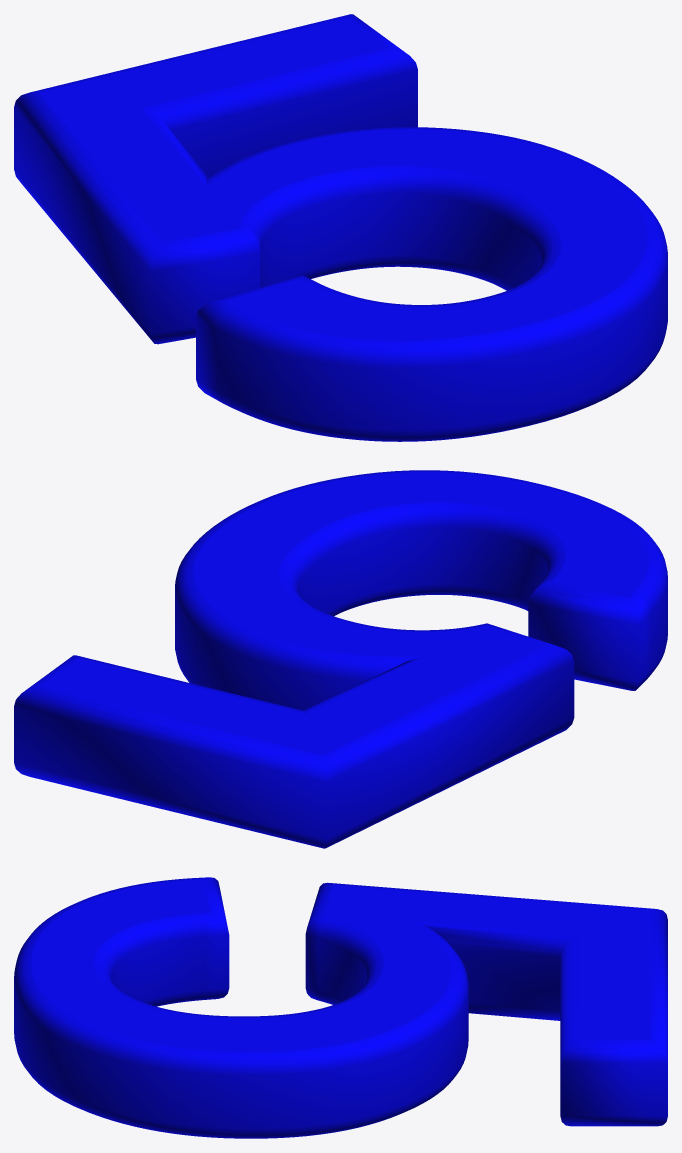
3 renders of one model, top to bottom at view 1: azimuth 30°, elevation 25°; view 2: azimuth 150°, elevation 25°; view 3: azimuth 270°, elevation 25°, orthographic. The views are drawn at different scales.
Visible parts, largest first — view 1: 53; view 2: 53; view 3: 53.
Boxes of the visible parts, x1,y1,x2,y2 form: 53: (14,14,667,441); 53: (14,470,667,848); 53: (14,877,667,1138).
Size of the model in its own units: 0.7606 by 0.16 by 1.11.
